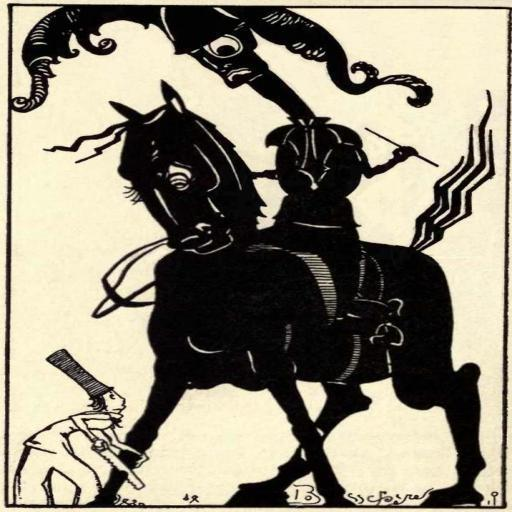horse: (36, 76, 498, 506)
